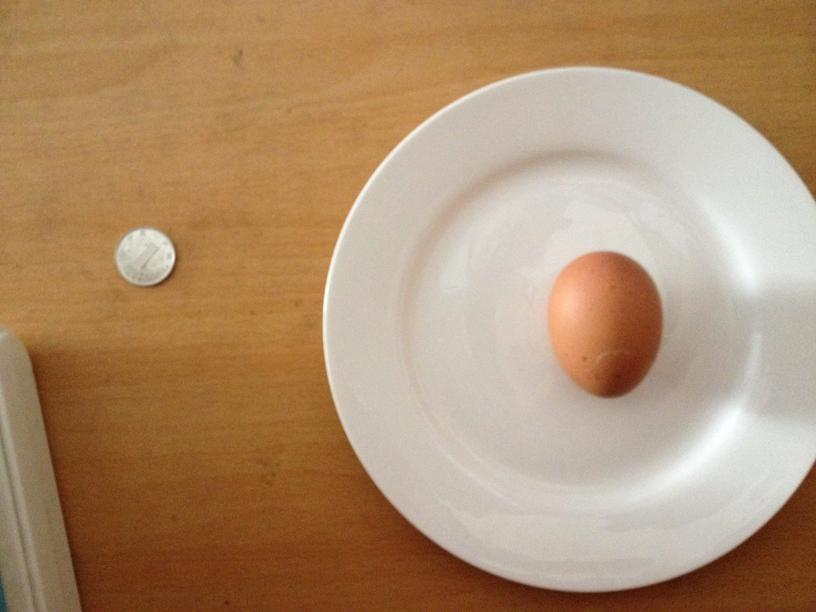coin: (113, 228, 176, 287)
egg: (547, 252, 664, 399)
